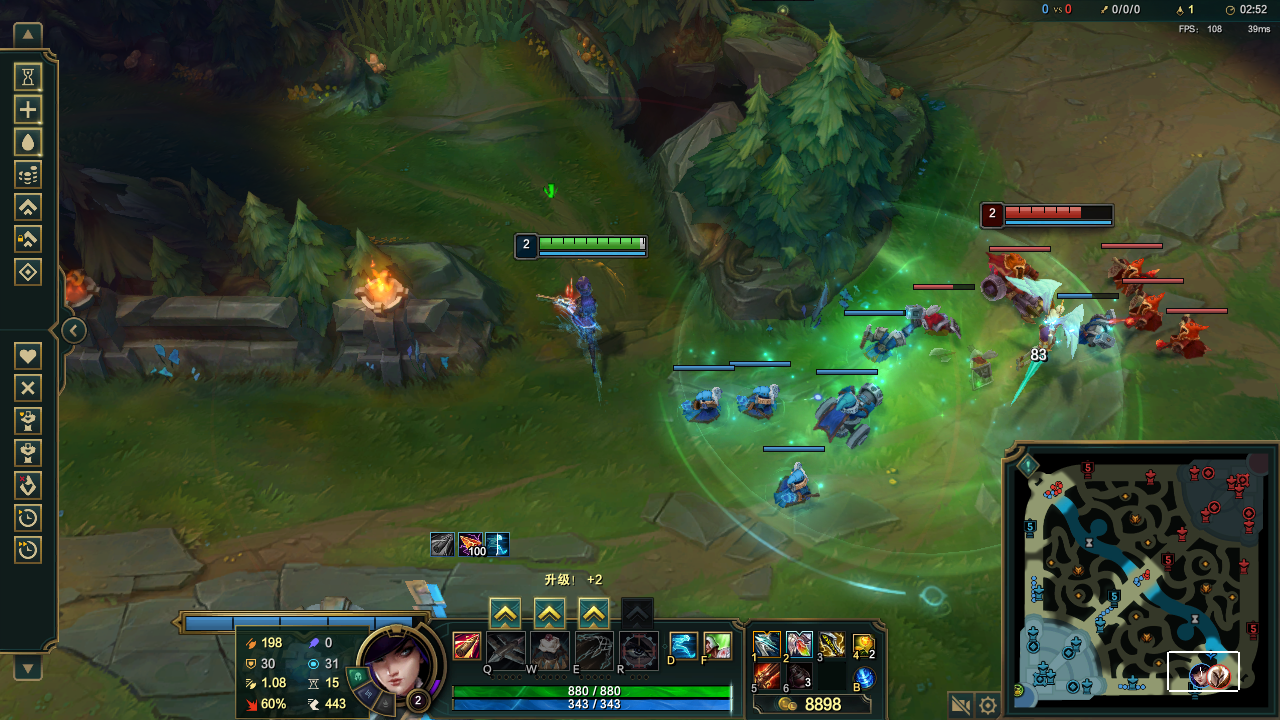DFYX: (1003, 206, 1111, 219)
